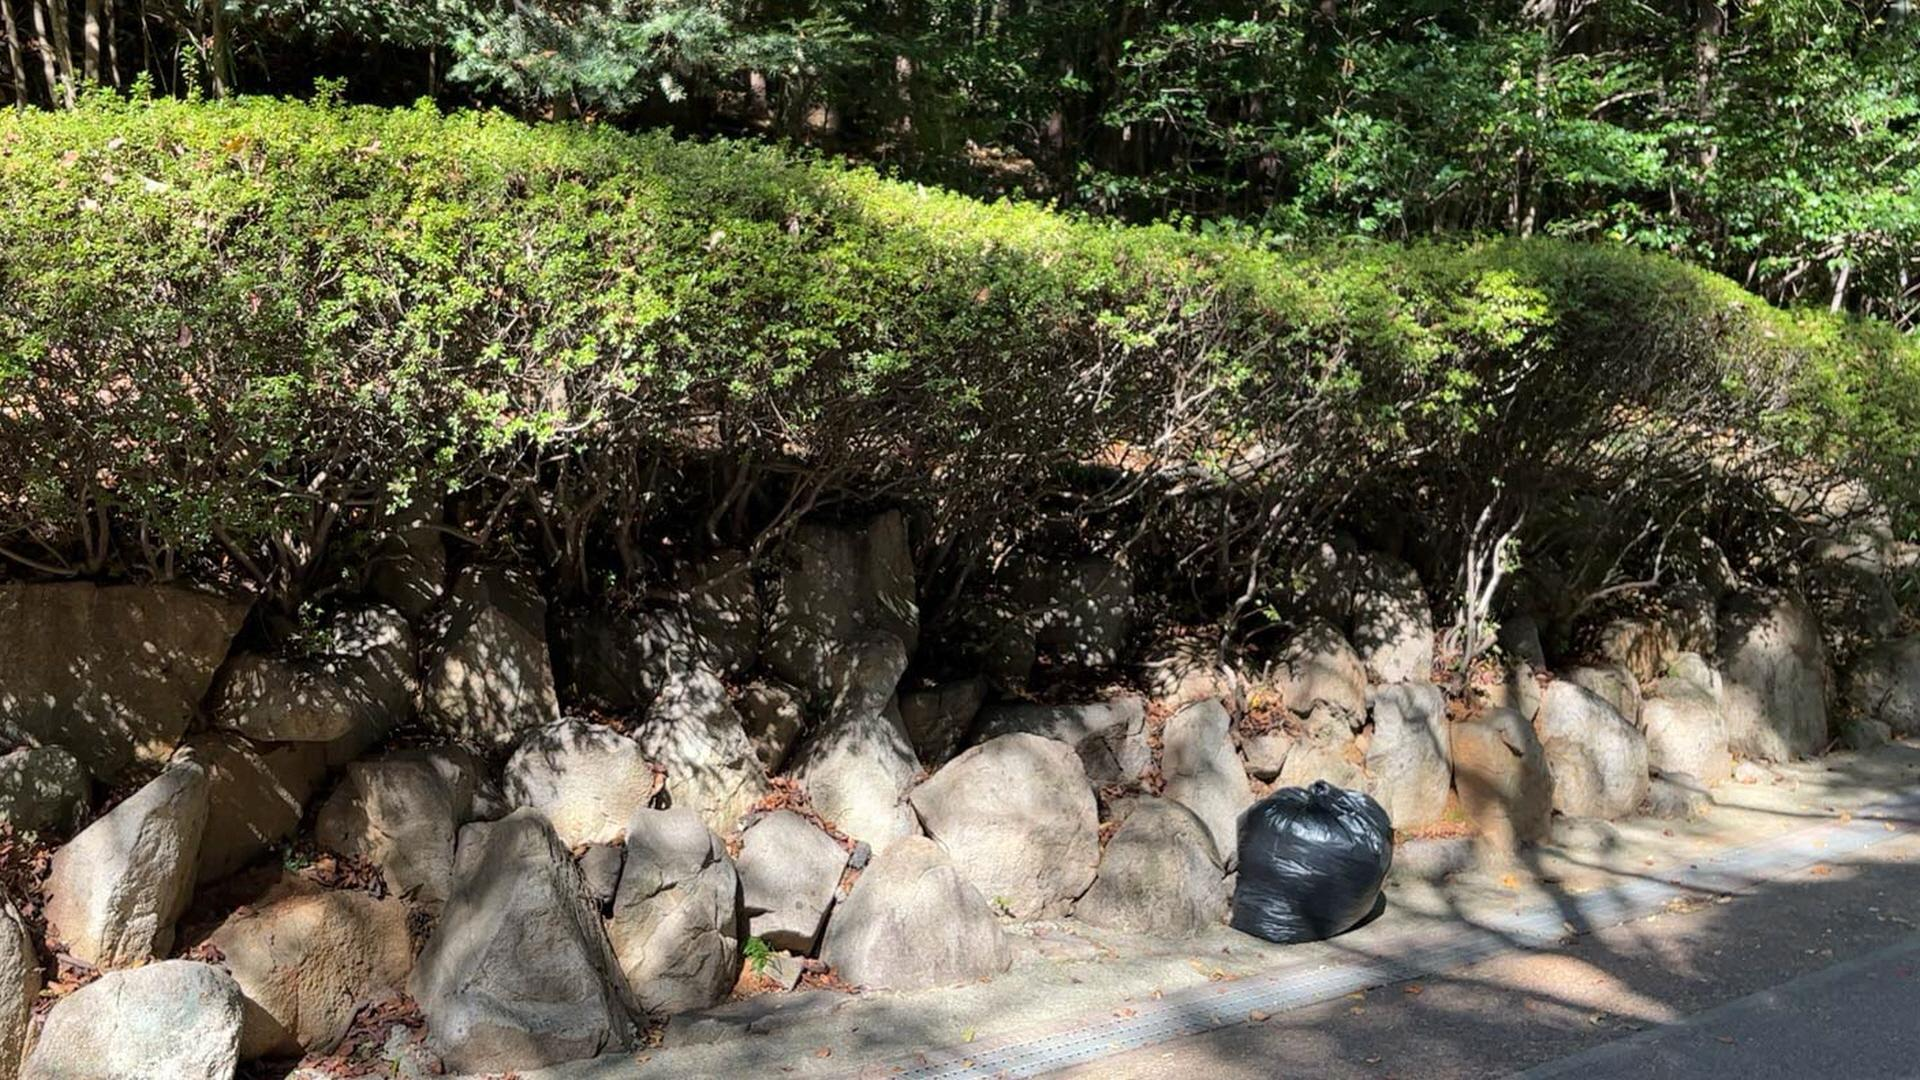white_bag: (1218, 773, 1407, 953)
